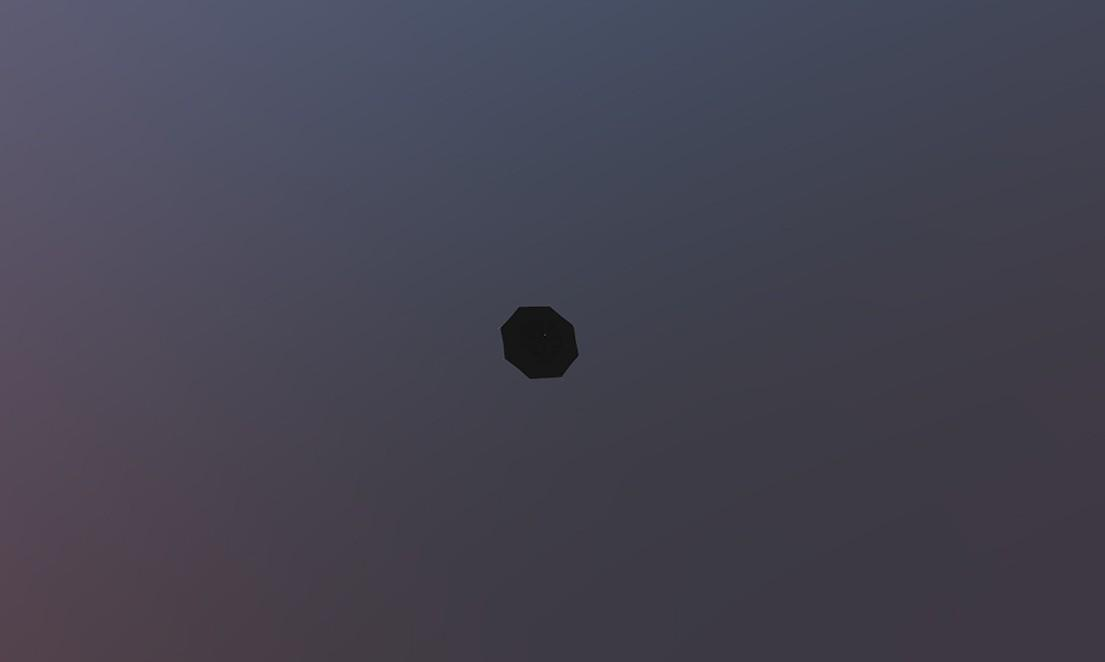Stop-Sign: (498, 303, 579, 380)
